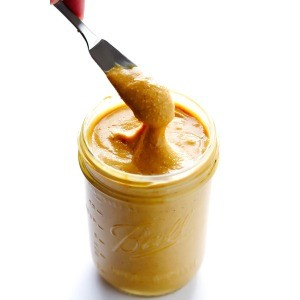peanut butter_brain food: (70, 71, 229, 287)
